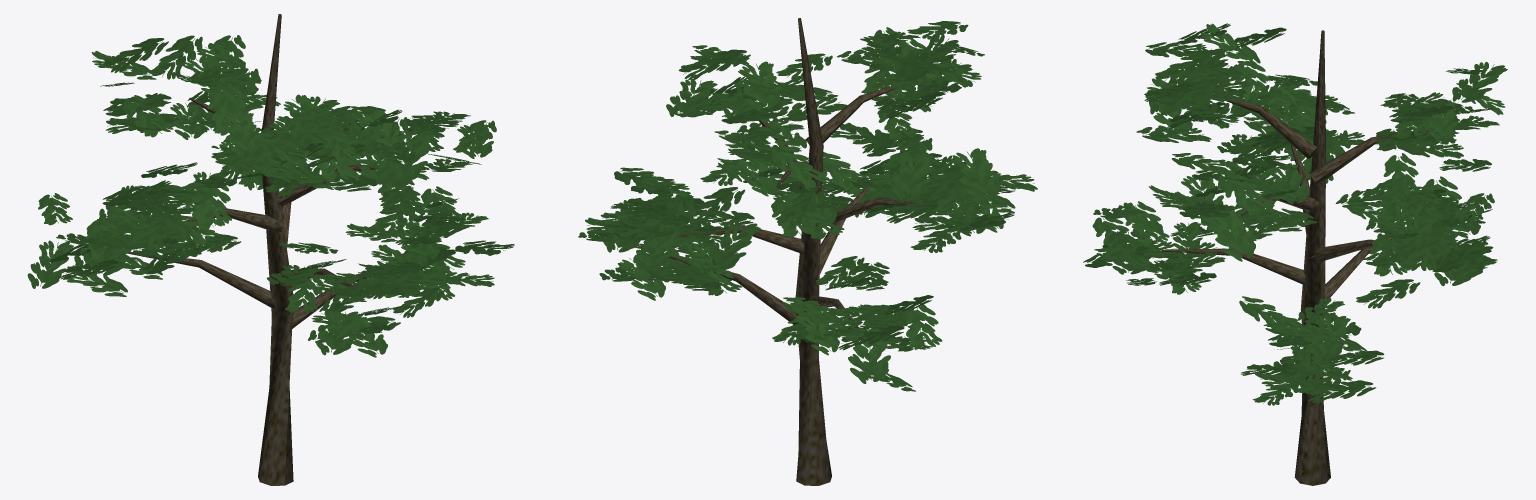
File: tree_B_lod0.glb
3 renders of one model, left to right at view 1: azimuth 30°, elevation 25°; view 2: azimuth 150°, elevation 25°; view 3: azimuth 270°, elevation 25°, orthographic. The views are drawn at different scales.
Parts seen in each view (by area): view 1: tree_B_L0__leaf, tree_B_L0__bark; view 2: tree_B_L0__leaf, tree_B_L0__bark; view 3: tree_B_L0__leaf, tree_B_L0__bark.
Boxes of the visible parts, bbox=[...] form: tree_B_L0__leaf: bbox=[27, 35, 514, 357]; tree_B_L0__bark: bbox=[127, 14, 386, 485]; tree_B_L0__leaf: bbox=[578, 21, 1037, 391]; tree_B_L0__bark: bbox=[668, 18, 930, 485]; tree_B_L0__leaf: bbox=[1083, 23, 1507, 405]; tree_B_L0__bark: bbox=[1162, 30, 1433, 485].
Size of the model in its own units: 7.23 by 7.41 by 6.64.
2 materials, 2 textured.
